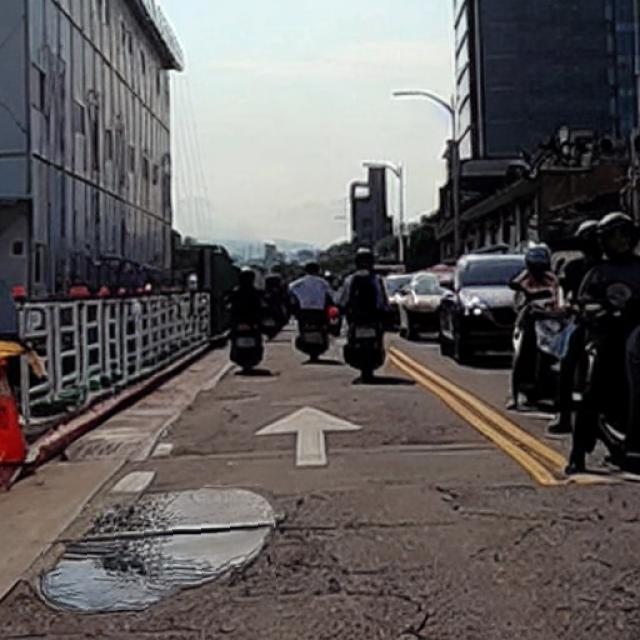puddle: (43, 488, 277, 612)
